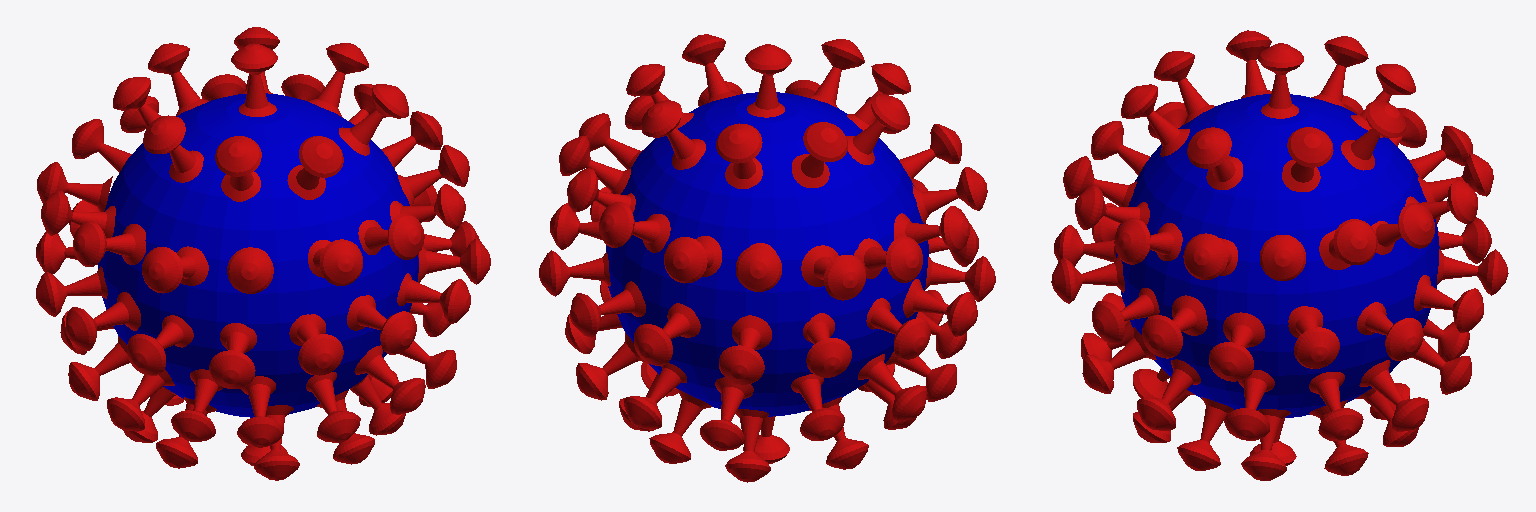
File: covid.obj
The picture shows the model from 3 angles: view 1: azimuth 30°, elevation 25°; view 2: azimuth 150°, elevation 25°; view 3: azimuth 270°, elevation 25°; orthographic projection.
Visible parts, largest first — view 1: Sphere, Cylinder.010_Cylinder.011, Cylinder.022_Cylinder.023, Cylinder.023_Cylinder.024, Cylinder.011_Cylinder.012, Cylinder.034_Cylinder.036, Cylinder.035_Cylinder.037, Cylinder.021_Cylinder.022, Cylinder.036_Cylinder.038, Cylinder.033_Cylinder.035, Cylinder.007_Cylinder.008, Cylinder.032_Cylinder.034 (+28 smaller); view 2: Sphere, Cylinder.013_Cylinder.014, Cylinder.027_Cylinder.029, Cylinder.020_Cylinder.021, Cylinder.019_Cylinder.020, Cylinder.002_Cylinder.003, Cylinder.028_Cylinder.030, Cylinder.012_Cylinder.013, Cylinder.001_Cylinder.002, Cylinder.018_Cylinder.019, Cylinder.026_Cylinder.028, Cylinder.029_Cylinder.031 (+28 smaller); view 3: Sphere, Cylinder.038_Cylinder.040, Cylinder.052_Cylinder.054, Cylinder.017_Cylinder.018, Cylinder.016_Cylinder.017, Cylinder.031_Cylinder.033, Cylinder.006_Cylinder.007, Cylinder.004_Cylinder.005, Cylinder.018_Cylinder.019, Cylinder.030_Cylinder.032, Cylinder.050_Cylinder.052, Cylinder.005_Cylinder.006 (+28 smaller).
Part boxes in pixels (x1,y1,x2,y2): Sphere: (98, 93, 418, 417); Cylinder.010_Cylinder.011: (142, 246, 208, 293); Cylinder.022_Cylinder.023: (215, 136, 261, 201); Cylinder.023_Cylinder.024: (287, 136, 343, 199); Cylinder.011_Cylinder.012: (73, 221, 145, 266); Cylinder.034_Cylinder.036: (209, 323, 256, 388); Cylinder.035_Cylinder.037: (289, 314, 343, 375); Cylinder.021_Cylinder.022: (143, 115, 203, 182); Cylinder.036_Cylinder.038: (347, 295, 416, 354); Cylinder.033_Cylinder.035: (127, 315, 193, 375); Cylinder.007_Cylinder.008: (358, 213, 424, 259); Cylinder.032_Cylinder.034: (65, 292, 140, 350); Sphere: (606, 92, 928, 416); Cylinder.013_Cylinder.014: (801, 245, 865, 300); Cylinder.027_Cylinder.029: (719, 315, 771, 384); Cylinder.020_Cylinder.021: (792, 122, 847, 187); Cylinder.019_Cylinder.020: (716, 123, 762, 188); Cylinder.002_Cylinder.003: (599, 202, 670, 252); Cylinder.028_Cylinder.030: (634, 303, 700, 365); Cylinder.012_Cylinder.013: (854, 236, 922, 282); Cylinder.001_Cylinder.002: (664, 236, 721, 283); Cylinder.018_Cylinder.019: (641, 100, 705, 169); Cylinder.026_Cylinder.028: (803, 313, 851, 377); Cylinder.029_Cylinder.031: (570, 281, 645, 337); Sphere: (1116, 94, 1439, 417); Cylinder.038_Cylinder.040: (1209, 312, 1264, 381); Cylinder.052_Cylinder.054: (1142, 295, 1207, 358); Cylinder.017_Cylinder.018: (1282, 127, 1333, 191); Cylinder.016_Cylinder.017: (1187, 127, 1242, 189); Cylinder.031_Cylinder.033: (1288, 306, 1339, 368); Cylinder.006_Cylinder.007: (1114, 218, 1182, 264); Cylinder.004_Cylinder.005: (1319, 219, 1377, 269); Cylinder.018_Cylinder.019: (1341, 101, 1405, 170); Cylinder.030_Cylinder.032: (1357, 302, 1423, 360); Cylinder.050_Cylinder.052: (1309, 372, 1363, 440); Cylinder.005_Cylinder.006: (1183, 233, 1237, 279).
Bounding box in the file's own units: 4.2 × 4.27 × 4.21.